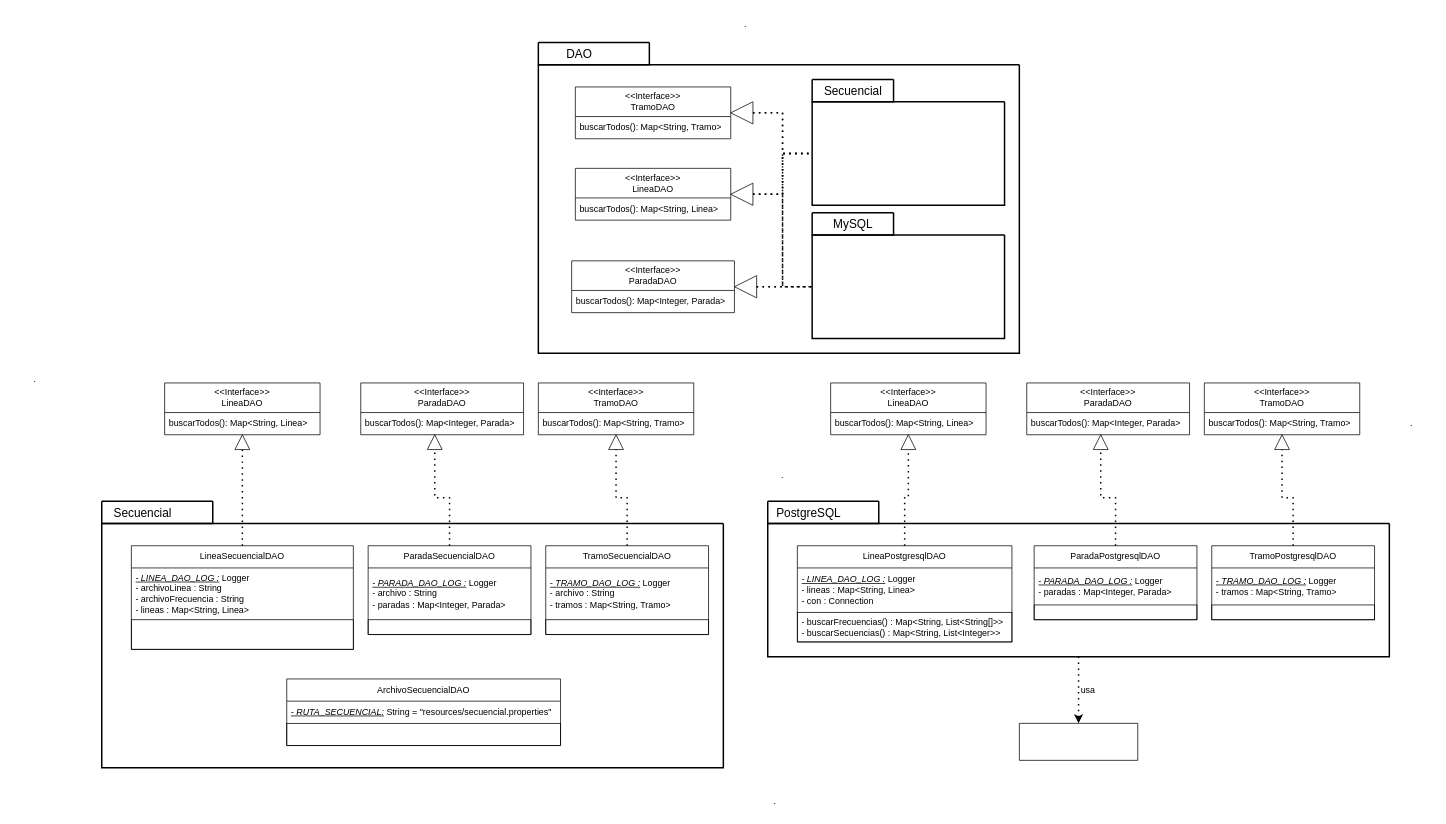
The diagram is 1446 pixels wide and 824 high, and some of its shapes have lost their labels. Here are the shapes that lost their labels. From the top down, the centre of each, then its label:
At point 242,634: "- buscarFrecuencias() : Map<String, List<String[]>>".
At point 423,734: "+ leerArchivo() : Properties".
At point 1078,741: "<<from controlador>> Coordinador".
